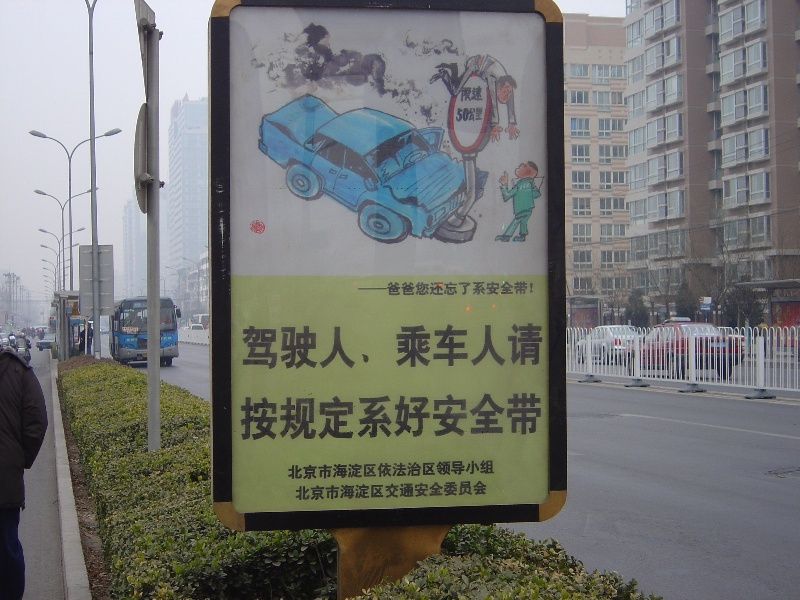text: (241, 389, 256, 442), (257, 389, 272, 442), (273, 389, 288, 442), (289, 389, 304, 442), (305, 389, 320, 442), (321, 389, 336, 442), (337, 389, 352, 442), (353, 389, 368, 442), (369, 389, 384, 442), (385, 389, 400, 442), (401, 389, 416, 442), (417, 389, 432, 442), (433, 389, 448, 442), (449, 389, 464, 442), (465, 389, 480, 442), (481, 389, 496, 442), (497, 389, 512, 442), (513, 389, 528, 442), (529, 389, 544, 442), (529, 322, 545, 369), (257, 322, 272, 369), (273, 322, 288, 369), (289, 322, 304, 369), (305, 322, 320, 369), (321, 322, 336, 369), (337, 322, 352, 369), (353, 322, 368, 369), (369, 322, 384, 369), (385, 322, 400, 369), (401, 322, 416, 369), (417, 322, 432, 369), (433, 322, 448, 369), (449, 322, 464, 369), (465, 322, 480, 369), (481, 322, 496, 369), (497, 322, 512, 369), (513, 322, 528, 369), (242, 322, 256, 369), (305, 477, 320, 505), (321, 477, 336, 505), (337, 477, 352, 505), (353, 477, 368, 505), (369, 477, 384, 505), (385, 477, 400, 505), (401, 477, 416, 505), (417, 477, 432, 505), (433, 477, 448, 505), (449, 477, 464, 505), (465, 477, 480, 505), (289, 458, 304, 481), (305, 458, 320, 481), (321, 458, 336, 481), (337, 458, 352, 481), (353, 458, 368, 481), (369, 458, 384, 481), (385, 458, 400, 481), (401, 458, 416, 481), (417, 458, 432, 481), (433, 458, 448, 481), (449, 458, 464, 481), (465, 458, 480, 481), (481, 458, 496, 481), (293, 477, 304, 505), (465, 106, 480, 124), (465, 87, 480, 103), (772, 305, 784, 324), (236, 389, 240, 442), (369, 282, 384, 296), (385, 282, 400, 296), (401, 282, 416, 296), (417, 282, 432, 296), (433, 282, 448, 296), (449, 282, 464, 296), (465, 282, 480, 296), (481, 282, 496, 296), (497, 282, 512, 296), (513, 282, 528, 296), (481, 477, 488, 505), (357, 282, 368, 296), (456, 106, 464, 124), (785, 305, 792, 324), (529, 282, 536, 296), (481, 87, 486, 103), (481, 106, 485, 124), (460, 87, 464, 103), (286, 458, 288, 481), (145, 354, 160, 357), (162, 337, 176, 340), (166, 332, 176, 336), (51, 317, 64, 320), (133, 329, 144, 332), (129, 339, 138, 342), (497, 458, 498, 481), (123, 328, 128, 330), (123, 330, 128, 332), (701, 298, 704, 301), (142, 303, 144, 307), (129, 328, 133, 330), (129, 330, 132, 332), (127, 339, 128, 342)
